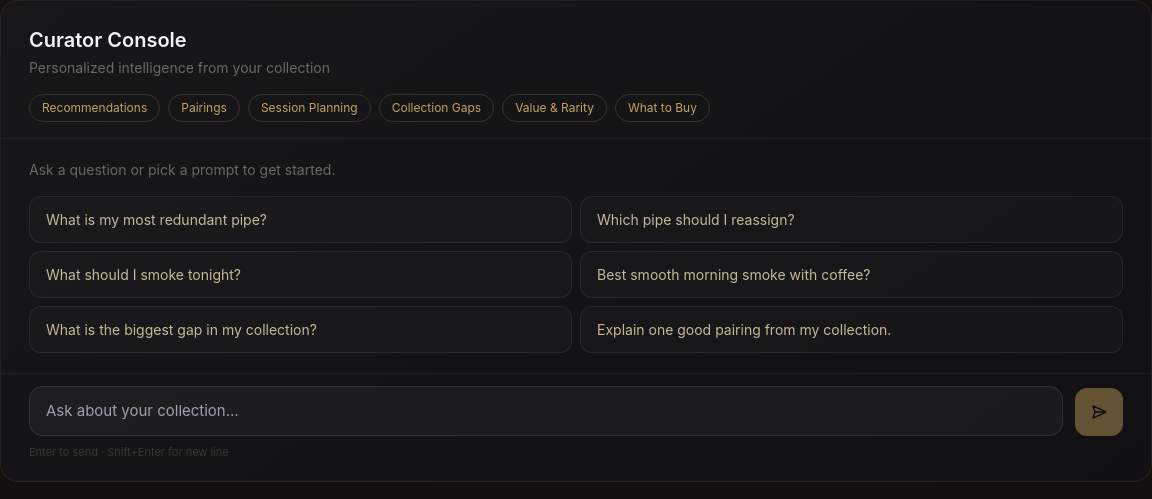
Test: ExpertTobacconistChat deterministic routing › answers simple factual chat queries before invoking the LLM
Type "How many unopened bottles do I have?" into the text box with placeholder "Ask about your collection…" at (546, 411), box left=29, top=386, right=1063, bottom=436
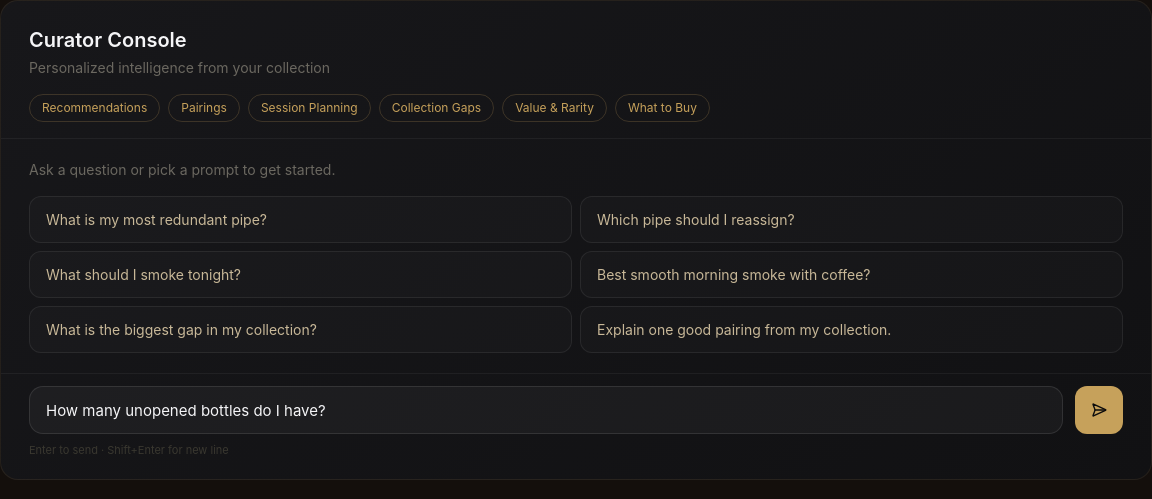
Click the button named "Send message" at (1099, 410), box left=1075, top=386, right=1123, bottom=434
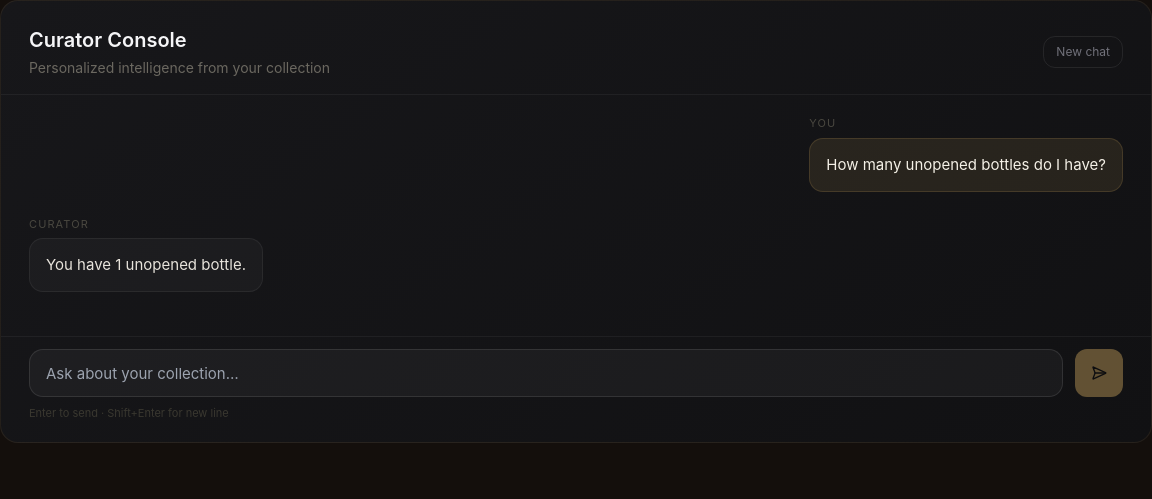
Check: the text "You have 1 unopened bottle." is shown, box left=46, top=251, right=246, bottom=279
